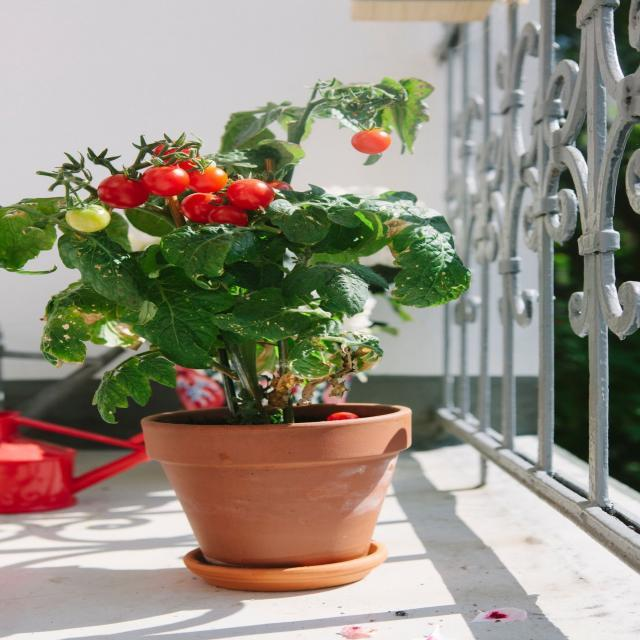tomato: (0, 78, 470, 427)
